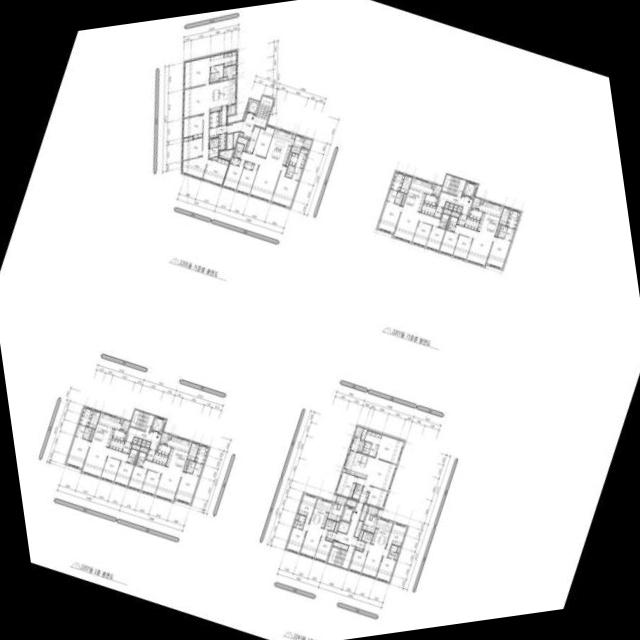background: (0, 0, 640, 640)
space_balconi: (302, 138, 312, 149), (227, 104, 235, 115)
space_bedroom: (271, 165, 298, 208), (183, 56, 209, 89), (174, 471, 199, 504), (486, 236, 511, 269), (375, 435, 403, 464), (65, 436, 90, 468), (377, 201, 402, 233), (202, 157, 229, 186), (252, 125, 274, 157), (222, 160, 245, 190), (236, 164, 258, 194), (336, 472, 358, 498), (297, 494, 316, 523), (385, 523, 406, 549), (127, 465, 147, 491), (100, 456, 120, 482), (452, 234, 472, 260), (286, 527, 306, 552), (141, 470, 161, 495), (113, 461, 133, 486), (439, 230, 459, 255), (425, 226, 445, 251), (182, 115, 202, 139), (182, 136, 202, 160), (376, 556, 395, 581), (412, 221, 431, 246), (366, 486, 387, 508), (314, 536, 332, 561), (349, 550, 367, 572), (243, 161, 254, 170), (230, 157, 240, 165)
space_dressroom: (194, 444, 209, 464), (78, 407, 93, 426), (506, 209, 520, 229), (390, 171, 404, 191), (364, 430, 381, 445), (295, 148, 307, 168), (223, 50, 236, 67), (288, 153, 298, 166)
space_elevator: (150, 416, 166, 434), (462, 181, 477, 198), (245, 99, 259, 114), (341, 506, 354, 522)
space_elevator_hall: (227, 85, 277, 138), (334, 502, 363, 552), (125, 427, 161, 450), (436, 192, 472, 215)
space_front: (245, 126, 260, 153), (152, 451, 168, 465), (209, 125, 226, 138), (464, 216, 479, 230), (420, 203, 436, 216), (109, 438, 124, 451), (209, 111, 218, 128), (218, 133, 226, 151), (358, 491, 368, 503), (325, 530, 335, 542), (145, 449, 155, 461), (433, 206, 443, 218), (355, 540, 365, 551), (122, 442, 132, 453), (457, 214, 466, 226)
space_kitchen: (361, 514, 392, 549), (265, 128, 294, 165), (91, 412, 121, 447), (403, 177, 433, 212), (309, 499, 344, 528), (165, 435, 191, 472), (477, 200, 503, 237), (209, 78, 236, 112), (344, 450, 372, 479), (112, 429, 125, 441), (424, 194, 437, 206), (468, 209, 482, 220), (157, 444, 170, 455)
space_living_room: (181, 84, 209, 179), (240, 151, 282, 201), (392, 207, 440, 242), (81, 442, 128, 477), (142, 460, 182, 501), (454, 224, 493, 266), (356, 458, 396, 492), (361, 543, 389, 577), (300, 523, 327, 557)
space_other: (291, 135, 304, 154), (187, 442, 199, 461), (88, 410, 100, 429), (498, 207, 510, 225), (400, 175, 412, 193), (350, 438, 364, 452), (223, 65, 236, 79), (218, 106, 227, 126), (353, 520, 363, 537), (237, 136, 248, 150), (359, 504, 368, 521), (337, 521, 349, 533), (332, 541, 348, 550), (219, 149, 233, 159), (233, 132, 239, 148), (346, 499, 356, 507), (227, 133, 232, 149), (286, 152, 291, 166), (361, 429, 367, 440), (333, 522, 339, 532), (183, 459, 188, 471), (89, 429, 94, 441), (401, 193, 406, 205), (495, 224, 500, 236), (358, 530, 363, 540), (131, 444, 139, 450), (451, 211, 459, 217), (136, 438, 142, 445), (139, 447, 147, 452), (443, 209, 451, 214), (456, 206, 462, 212), (452, 205, 458, 211), (145, 441, 150, 448), (448, 203, 453, 210), (132, 437, 137, 443), (141, 440, 146, 446), (444, 202, 449, 208), (242, 113, 246, 120), (295, 514, 299, 520), (219, 77, 227, 80), (210, 157, 217, 160), (396, 547, 400, 552), (291, 134, 295, 139), (336, 505, 340, 509), (239, 132, 243, 136), (480, 199, 483, 204), (369, 516, 372, 520), (342, 469, 346, 472), (168, 435, 171, 439), (233, 75, 236, 78)
space_outdoor_room: (366, 506, 378, 516), (159, 432, 169, 444), (471, 197, 481, 209), (335, 496, 346, 506), (120, 420, 130, 431), (354, 426, 363, 438), (432, 184, 441, 196)
space_staircase: (327, 547, 352, 569), (130, 410, 154, 432), (441, 175, 465, 196), (261, 97, 273, 120)
space_toilet: (361, 441, 378, 457), (210, 64, 223, 82), (135, 451, 146, 467), (438, 213, 449, 229), (210, 53, 223, 66), (293, 515, 305, 529), (503, 227, 515, 241), (352, 484, 363, 499), (387, 545, 398, 560), (192, 462, 203, 476), (127, 449, 137, 464), (233, 143, 243, 158), (447, 216, 457, 231), (324, 519, 336, 531), (361, 531, 373, 543), (291, 167, 302, 180), (75, 424, 85, 438), (387, 189, 397, 202), (209, 147, 218, 158), (187, 460, 195, 468), (82, 432, 90, 440), (285, 170, 293, 178), (84, 427, 92, 434), (185, 466, 193, 473), (286, 165, 294, 172), (394, 197, 402, 204), (396, 191, 403, 199), (497, 231, 505, 238), (499, 225, 507, 232), (213, 137, 218, 147), (209, 138, 213, 148)
